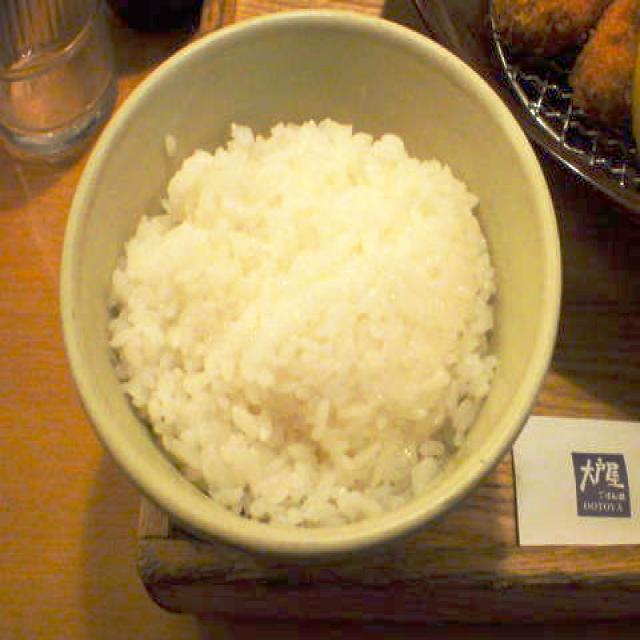rice: (106, 116, 498, 530)
